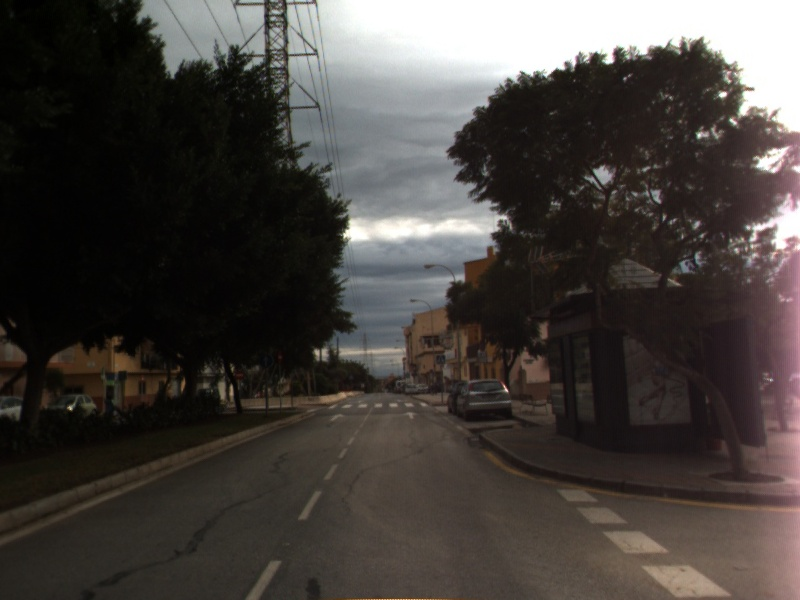STRAIGHT: (326, 411, 348, 423), (401, 410, 421, 421)
